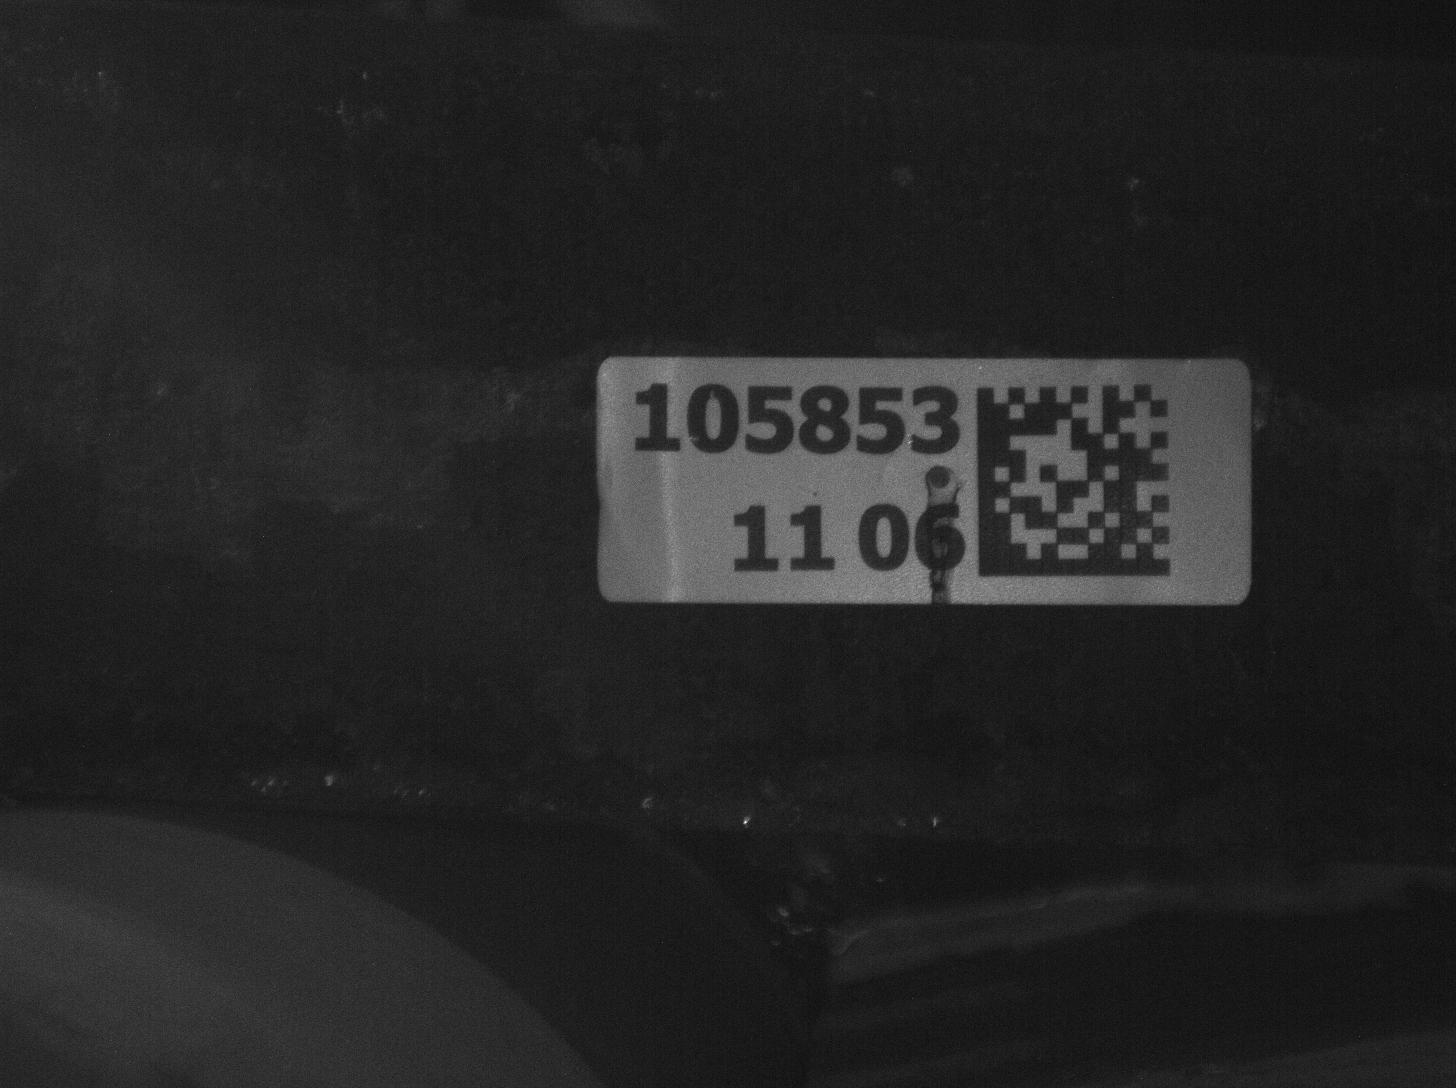data matrix: (965, 374, 1192, 594)
